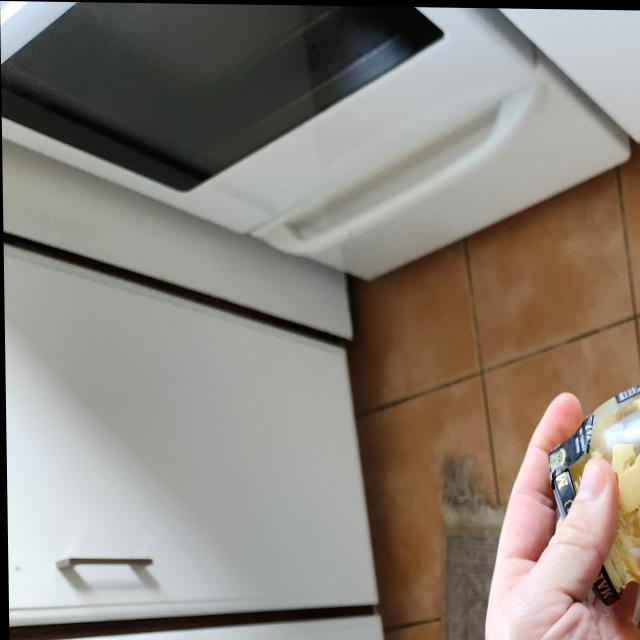mustard: (545, 338, 640, 607)
